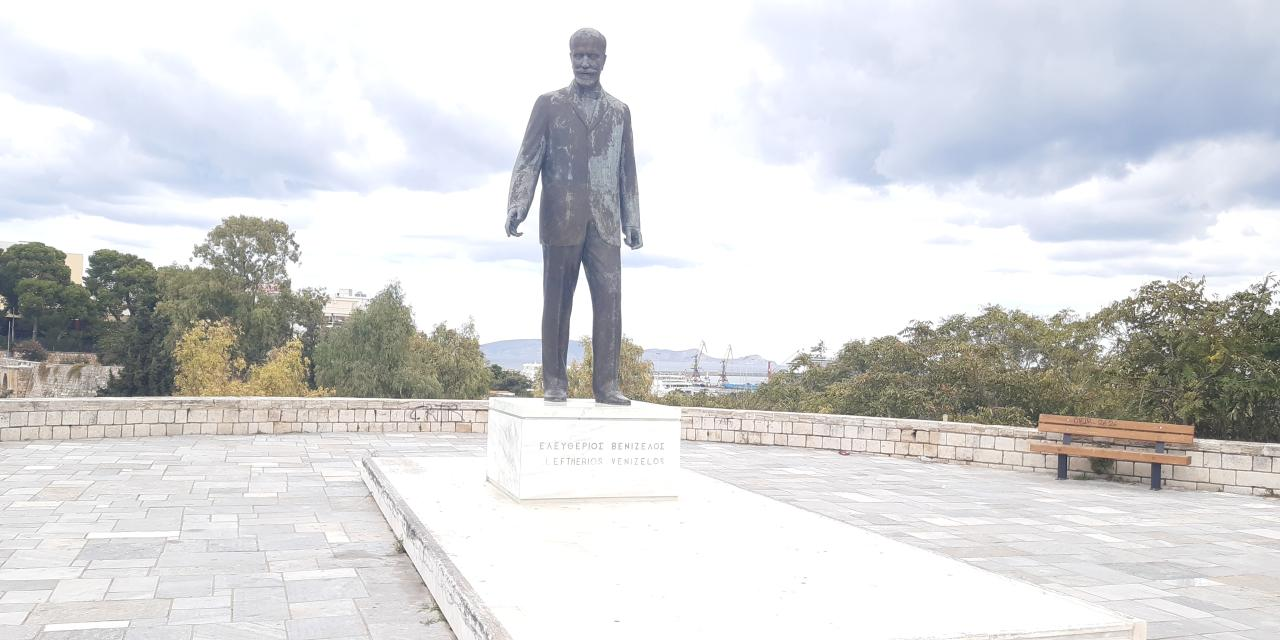Venizelos: (508, 27, 643, 404)
